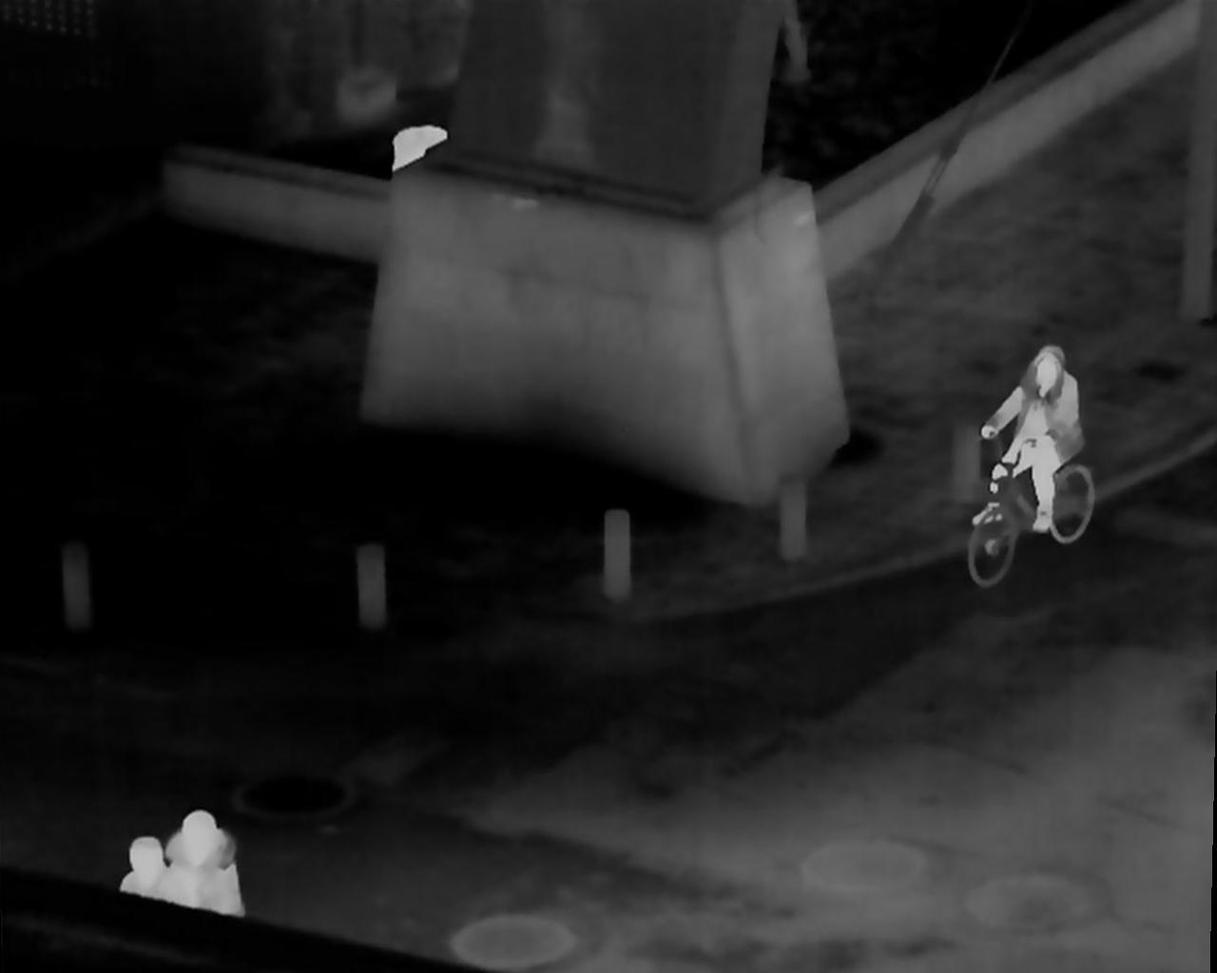person: (979, 353, 1093, 544), (170, 807, 242, 924), (116, 834, 185, 913)
